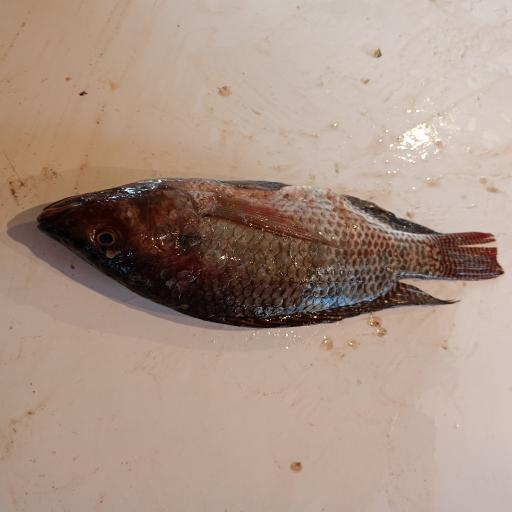Tilapia: (36, 177, 505, 328)
